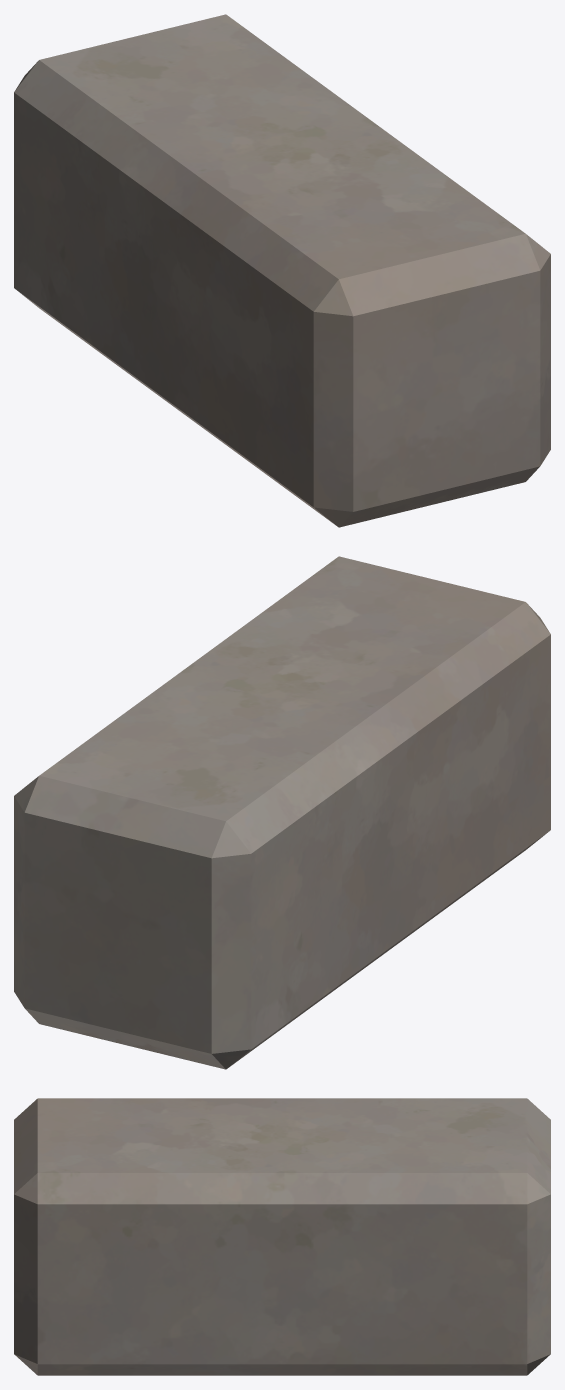
File: SM_Stone_01.fbx
3 renders of one model, top to bottom at view 1: azimuth 30°, elevation 25°; view 2: azimuth 150°, elevation 25°; view 3: azimuth 270°, elevation 25°, orthographic. The views are drawn at different scales.
Parts seen in each view (by area): view 1: SM_Stone_01_LOD0; view 2: SM_Stone_01_LOD0; view 3: SM_Stone_01_LOD0.
Part boxes in pixels (x1=…): SM_Stone_01_LOD0: x1=14, y1=14, x2=550, y2=527; SM_Stone_01_LOD0: x1=14, y1=556, x2=550, y2=1069; SM_Stone_01_LOD0: x1=14, y1=1098, x2=550, y2=1375.
Size of the model in its own units: 50 by 120 by 50.
Materials: 1 (1 with a texture image).
